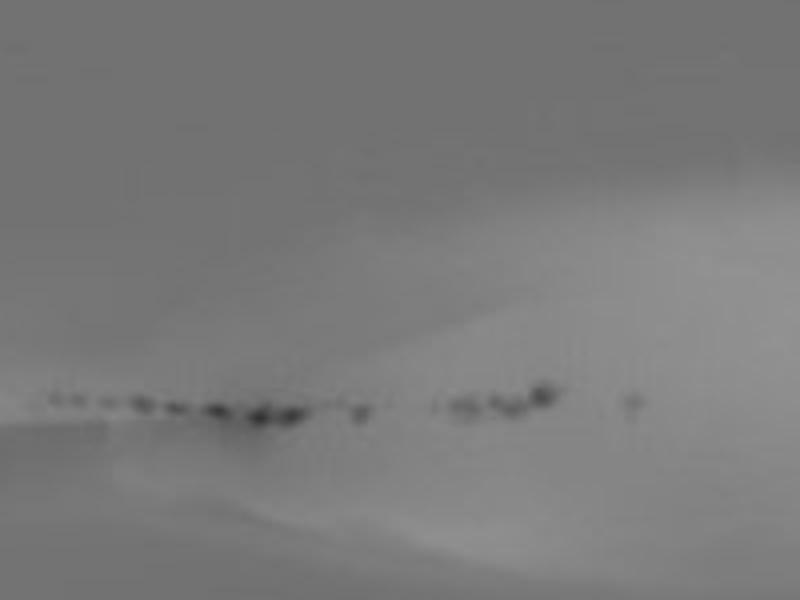defect: (449, 393, 480, 424), (492, 390, 526, 418), (529, 380, 560, 408), (276, 405, 305, 427), (248, 403, 273, 428), (201, 402, 231, 422), (128, 394, 155, 415), (621, 390, 643, 414), (349, 403, 370, 427), (97, 392, 118, 412), (165, 399, 188, 417), (65, 394, 86, 410), (44, 389, 62, 407)
